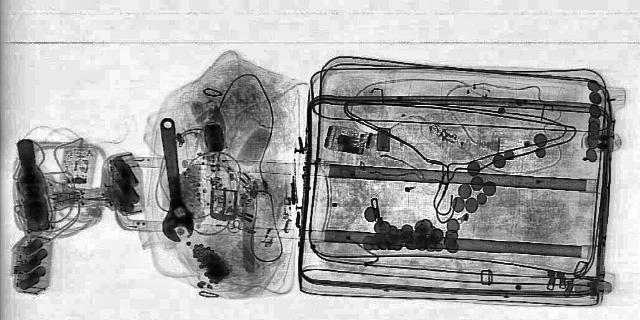Wrench: (144, 116, 198, 242)
